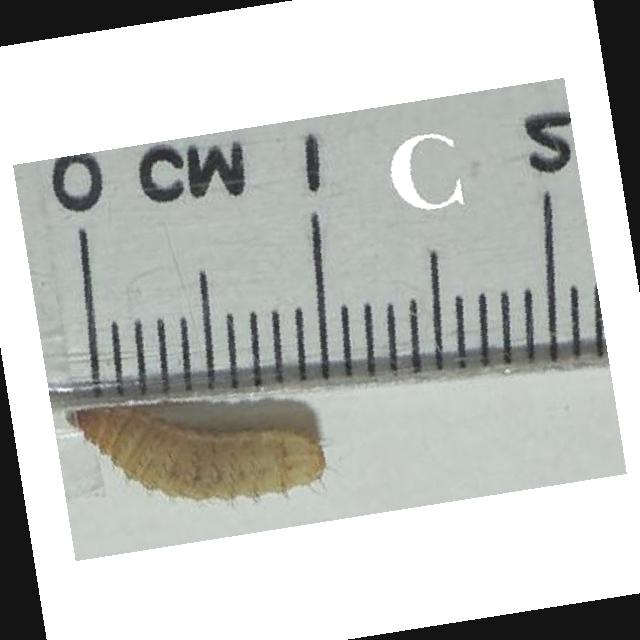Maggot: (59, 407, 326, 498)
